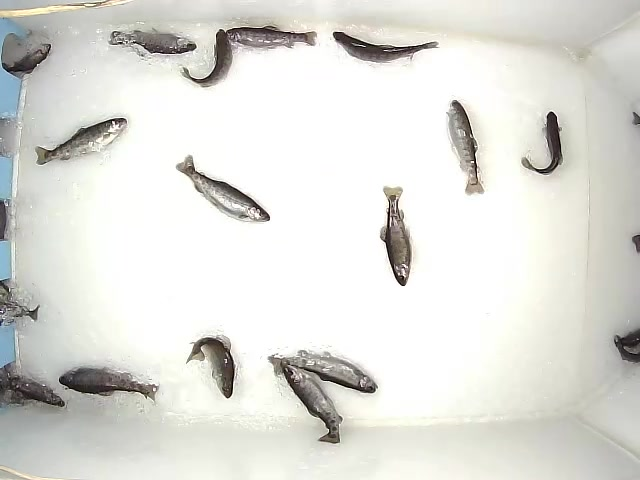fish: (174, 153, 272, 226), (280, 359, 343, 445), (265, 349, 378, 395), (34, 116, 129, 166), (445, 99, 485, 196), (331, 30, 441, 65), (58, 365, 161, 402), (378, 184, 413, 287), (180, 27, 234, 91), (186, 336, 236, 399), (519, 110, 565, 176), (107, 26, 199, 56), (225, 25, 319, 50), (1, 41, 52, 76)
